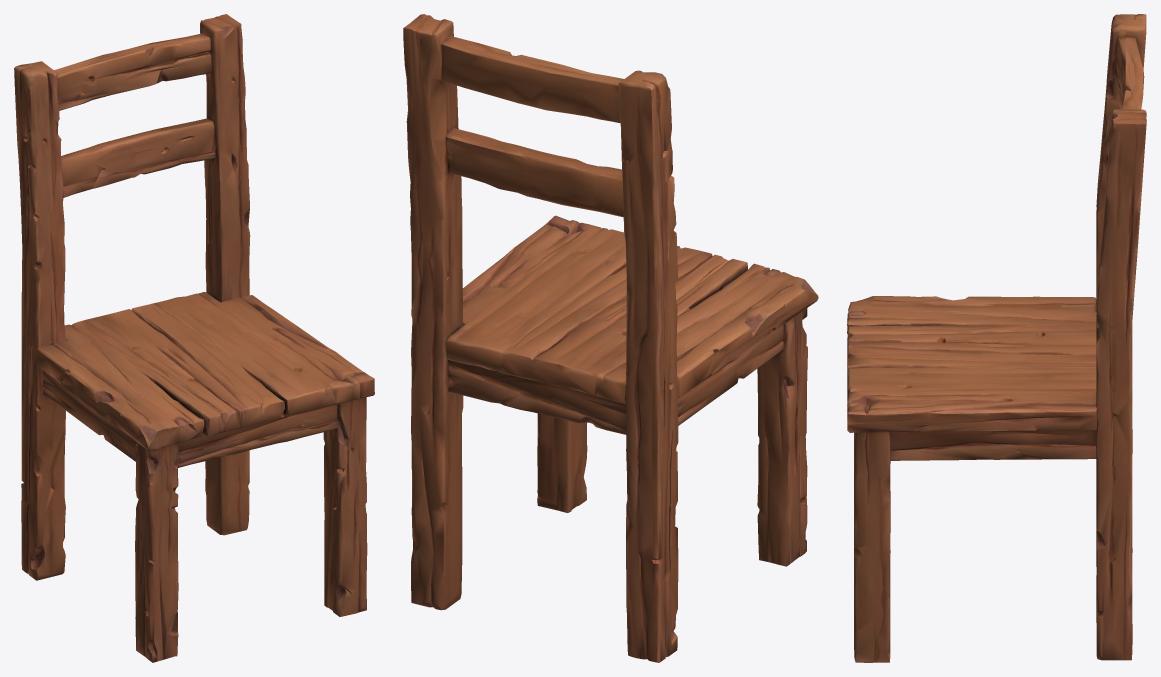
Rendered from chair_wood_derevyannyy_idle.glb.
3 views of the same model, side by side, from view 1: azimuth 30°, elevation 25°; view 2: azimuth 150°, elevation 25°; view 3: azimuth 270°, elevation 25° (orthographic). The views are drawn at different scales.
Parts seen in each view (by area): view 1: tripo_node_2b09a536-db14-4f75-9fe2-8534e7f37aba; view 2: tripo_node_2b09a536-db14-4f75-9fe2-8534e7f37aba; view 3: tripo_node_2b09a536-db14-4f75-9fe2-8534e7f37aba.
Boxes of the visible parts, <box> form: tripo_node_2b09a536-db14-4f75-9fe2-8534e7f37aba: <box>14,14,374,662</box>; tripo_node_2b09a536-db14-4f75-9fe2-8534e7f37aba: <box>403,14,818,662</box>; tripo_node_2b09a536-db14-4f75-9fe2-8534e7f37aba: <box>847,14,1146,662</box>.
Size of the model in its own units: 0.427 by 0.8999 by 0.4548.
Materials: 1 (1 with a texture image).
